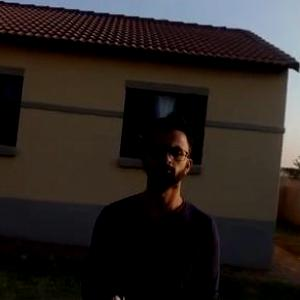follow: (76, 108, 223, 299)
